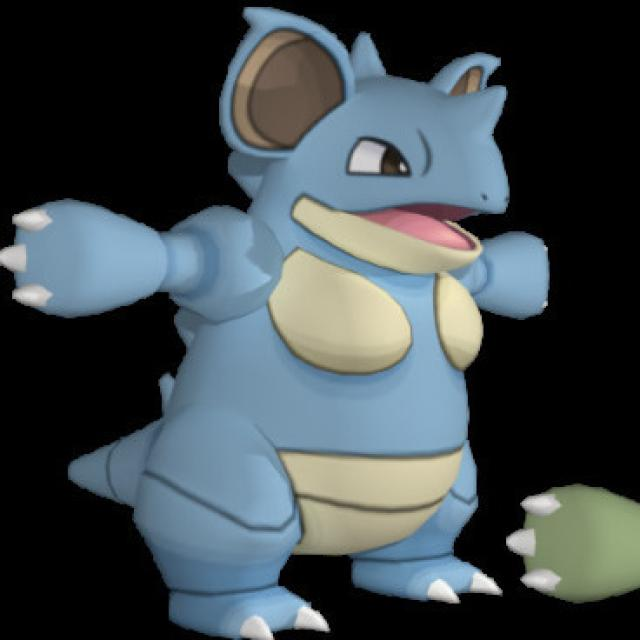Nidoqueen: (92, 17, 510, 628)
